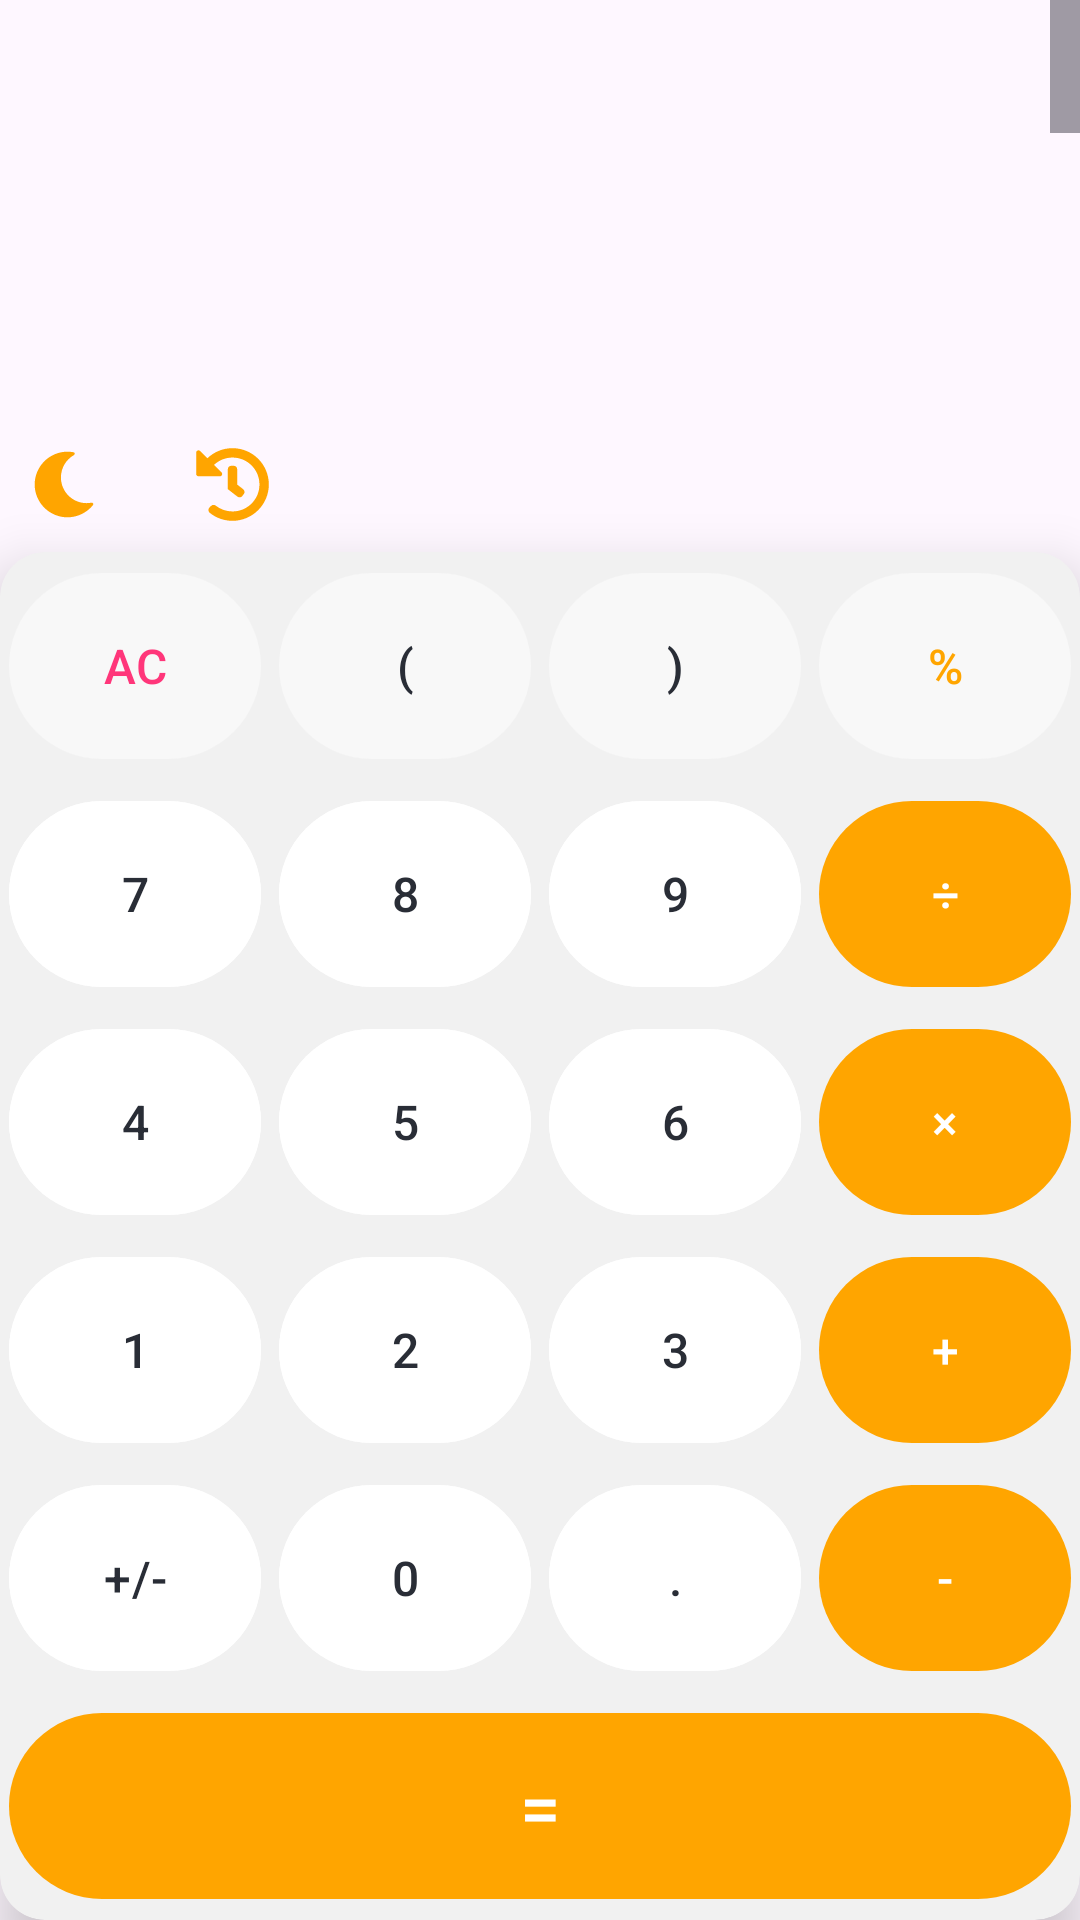

Icons on this 1080 x 1920 Android screen, each with its box as bbox=[x1, y1, x2, y2]:
history: bbox=[196, 448, 269, 521]
moon: bbox=[34, 451, 94, 518]
